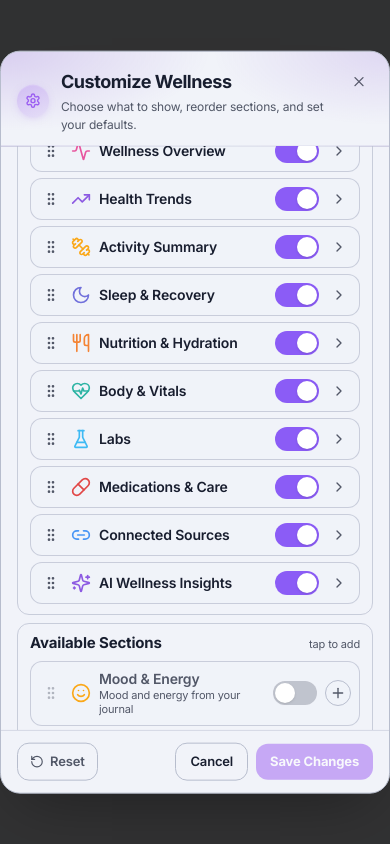
it: a draft until Save › opening and editing write nothing; Cancel drops the edits
Later steps or results of the test are not shown.
(page scrolled)
Expected: the list with test id "wellness-customize-visible" is shown, [30, 147, 360, 604]
Expected: the button with test id "wellness-customize-save" is disabled, [256, 744, 373, 779]
Click the switch with test id "wellness-customize-show-labs".
click(297, 439)  # box [275, 427, 319, 451]
(page scrolled)
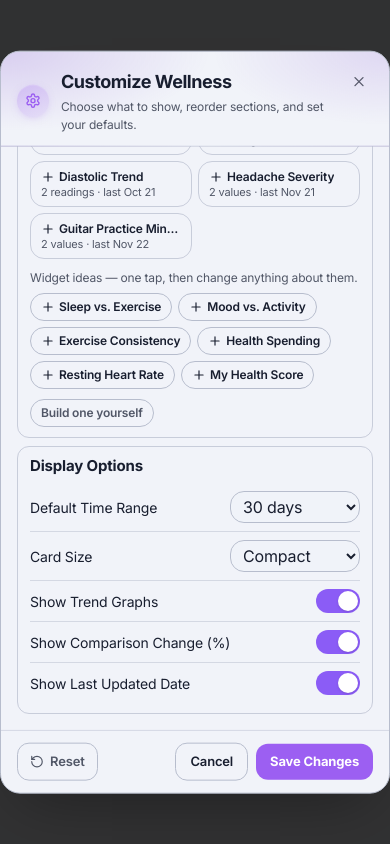
Click the switch with test id "wellness-option-trends".
click(338, 601)  # box [316, 589, 360, 613]
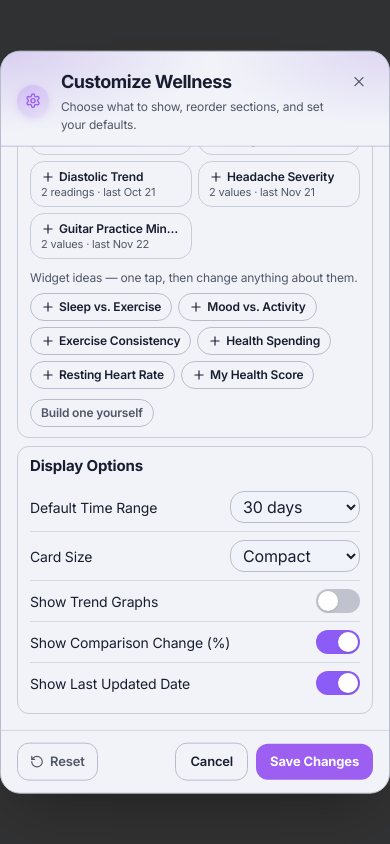
Result: the button with test id "wellness-customize-save" is enabled at [256, 744, 373, 779]
